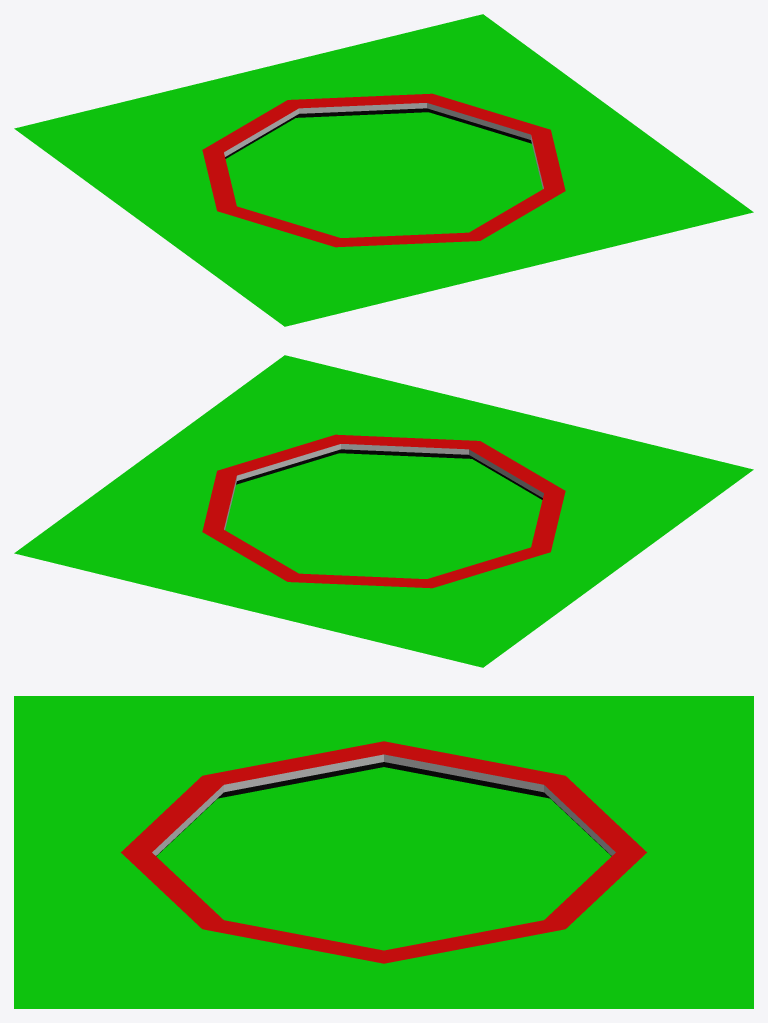
Rendered from Crew_Ceiling.fbx.
The picture shows the model from 3 angles, top to bottom: view 1: azimuth 30°, elevation 25°; view 2: azimuth 150°, elevation 25°; view 3: azimuth 270°, elevation 25°; orthographic projection. The views are drawn at different scales.
Parts seen in each view (by area): view 1: Ceiling; view 2: Ceiling; view 3: Ceiling.
Part boxes in pixels (box(x1,y1,x2,y2)): Ceiling: box(14, 14, 753, 326); Ceiling: box(14, 355, 753, 667); Ceiling: box(14, 696, 753, 1008).
Bounding box in the file's own units: 800 × 19.46 × 800.
